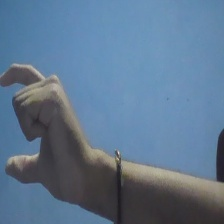G: (1, 60, 85, 208)
